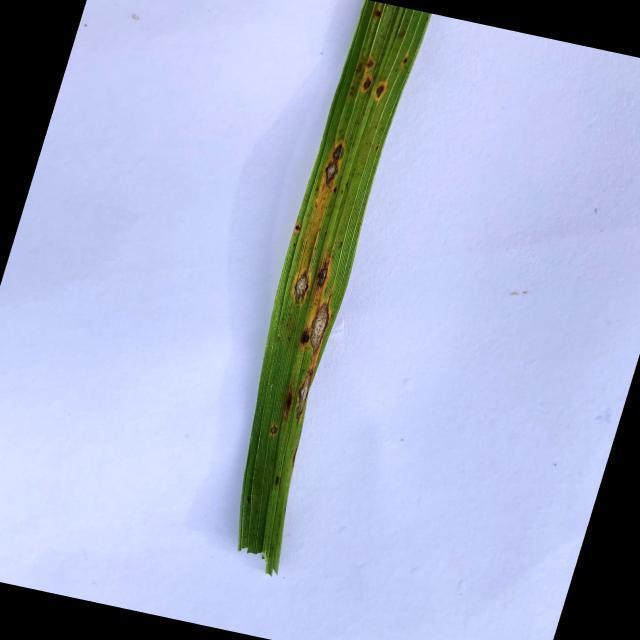Leaf_Blast: (311, 297, 331, 357), (296, 371, 313, 420), (292, 269, 311, 303), (325, 160, 338, 187), (282, 392, 295, 419), (317, 266, 328, 290), (332, 142, 345, 162), (374, 83, 387, 102), (299, 327, 310, 347), (361, 76, 373, 92), (365, 56, 375, 73), (271, 424, 278, 437)
